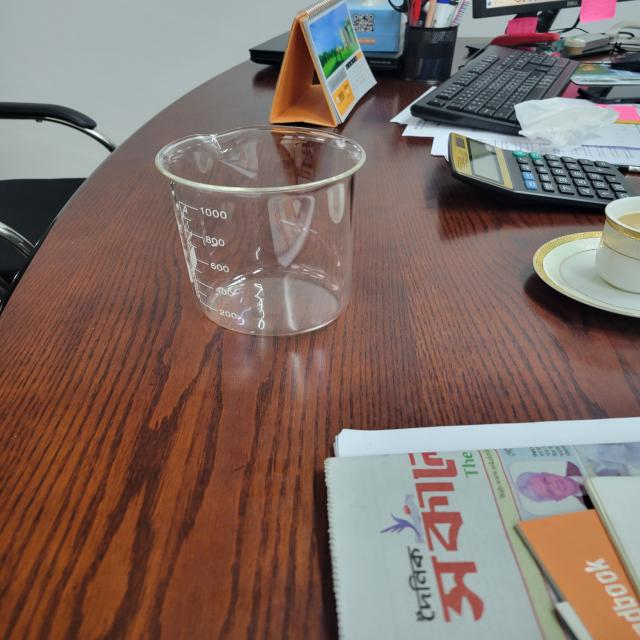Beaker: (154, 117, 380, 340)
